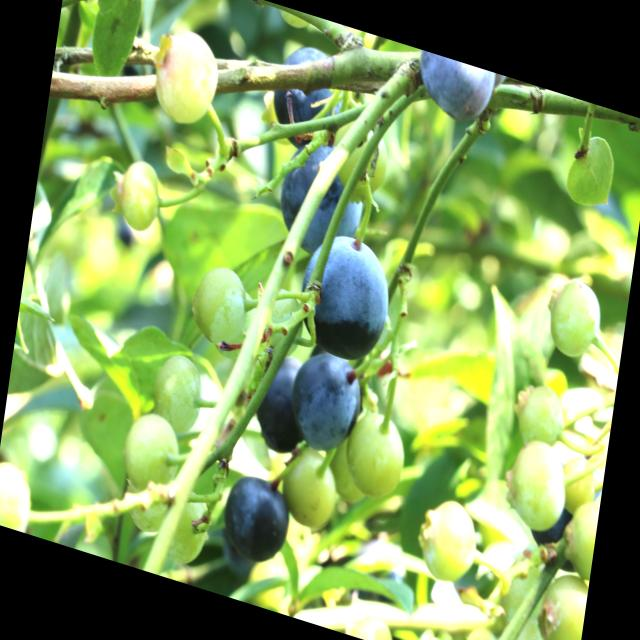blueberry: (294, 224, 396, 370), (271, 128, 375, 268), (266, 37, 351, 151), (290, 348, 365, 466), (218, 461, 295, 567), (409, 48, 494, 131), (250, 343, 309, 458)
blueberry-unripe: (149, 21, 223, 132), (502, 434, 574, 537), (413, 494, 484, 592), (120, 402, 184, 504), (542, 272, 607, 370), (280, 442, 345, 536), (344, 406, 407, 502), (188, 256, 251, 352), (560, 124, 624, 218), (157, 480, 218, 578), (151, 344, 209, 442), (110, 148, 168, 240), (534, 566, 590, 640), (514, 382, 567, 452), (122, 471, 172, 542), (558, 499, 600, 580), (0, 460, 37, 534), (557, 451, 597, 513)
